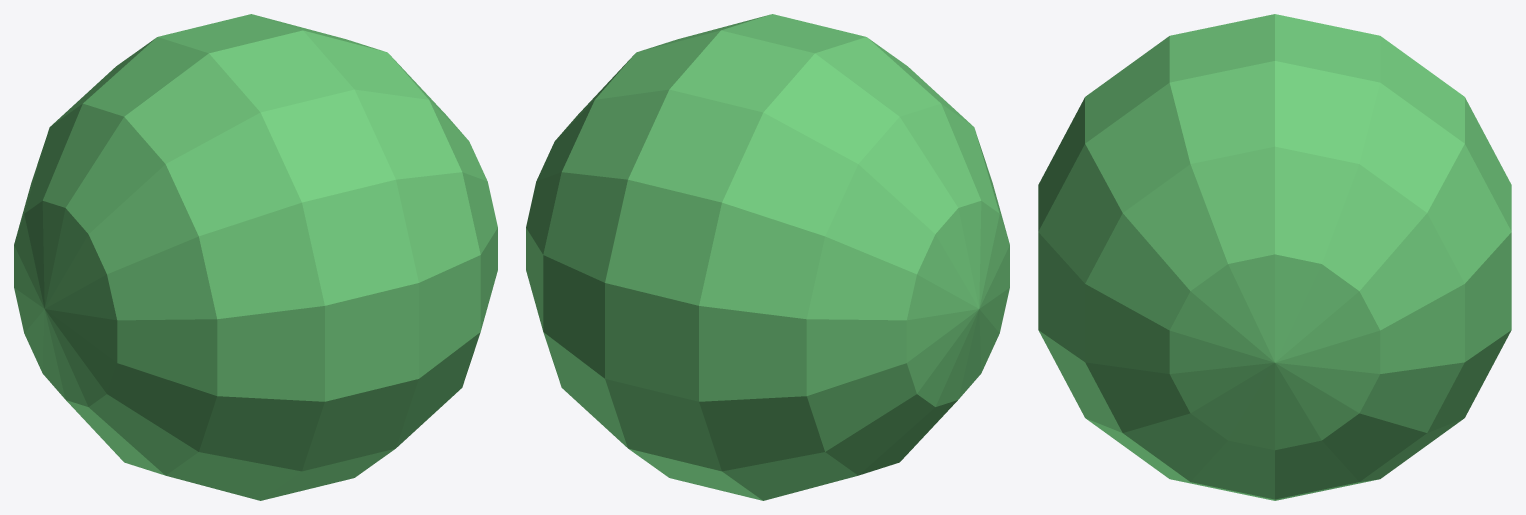
Rendered from ball2.glb.
3 views of the same model, side by side, from view 1: azimuth 30°, elevation 25°; view 2: azimuth 150°, elevation 25°; view 3: azimuth 270°, elevation 25° (orthographic). The views are drawn at different scales.
Visible parts, largest first — view 1: ball; view 2: ball; view 3: ball.
Boxes of the visible parts, x1,y1,x2,y2 form: ball: (14, 14, 497, 500); ball: (526, 14, 1009, 500); ball: (1038, 14, 1511, 500).
Bounding box in the file's own units: 0.00181 × 0.00177 × 0.00172.
